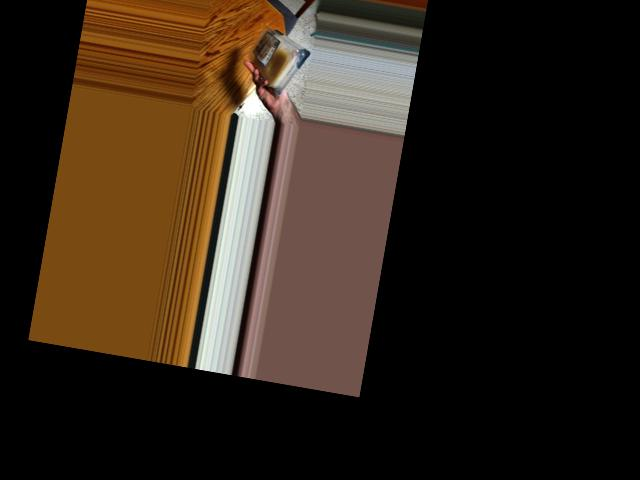cheese: (252, 25, 308, 99)
